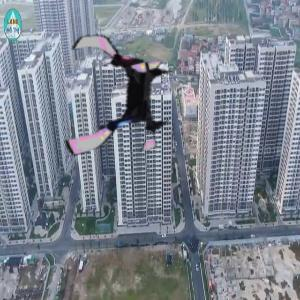drone: (49, 27, 184, 162)
